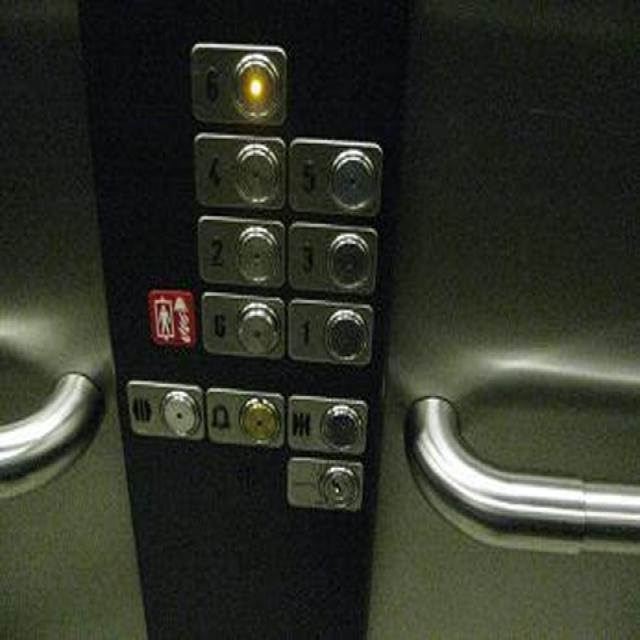1: (286, 294, 372, 366)
2: (196, 212, 287, 288)
3: (286, 219, 377, 296)
4: (192, 131, 285, 212)
5: (287, 135, 383, 216)
6: (187, 40, 289, 124)
G: (199, 288, 286, 360)
alarm: (204, 385, 286, 447)
bt_keyhole: (287, 455, 368, 516)
close: (285, 389, 368, 456)
open: (126, 373, 204, 443)
